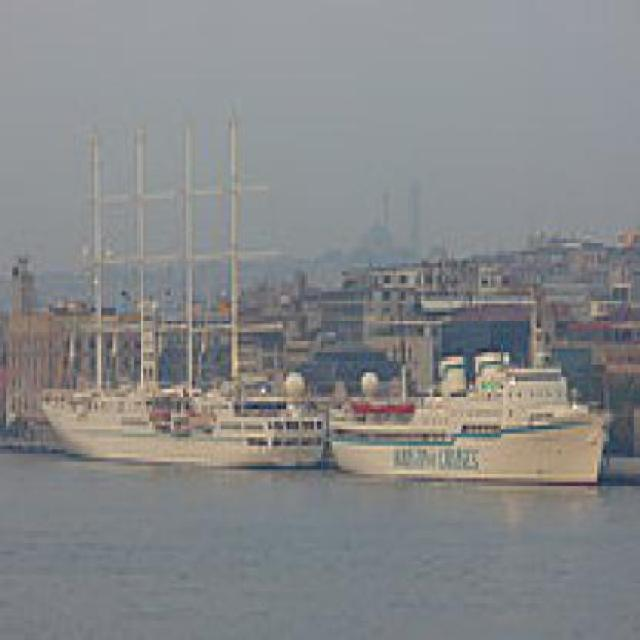cruise: (324, 321, 626, 495)
